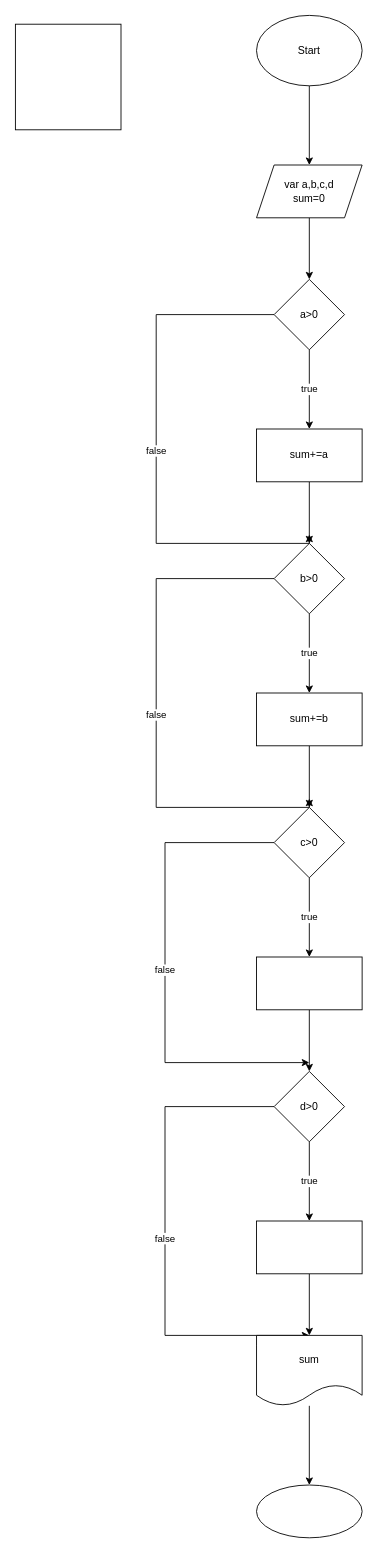
Image size: 378x1553. Some labels were removed from this diagram. The shapes that lost their labels are listed below. From the top down, each one's box as (x1, y1, x2, y2) in pixels, then its label:
(15, 23, 121, 130): Verilmiş 4 ədəddən müsbət olanlarının cəmini tapan alqoritm.drawio
(256, 956, 362, 1010): sum+=c
(256, 1220, 362, 1274): sum+=d
(256, 1484, 362, 1538): End
